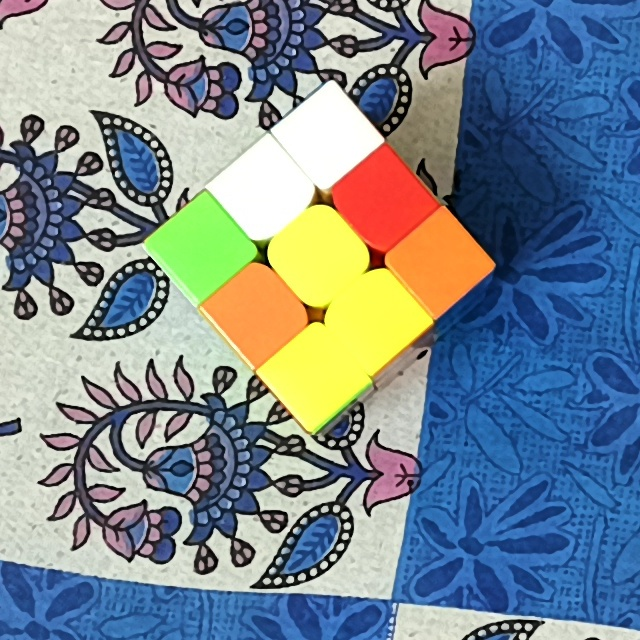tile: (293, 223, 351, 284), (409, 238, 469, 293), (234, 166, 294, 219), (289, 344, 342, 403), (174, 215, 225, 276), (299, 107, 357, 159), (360, 171, 411, 227), (235, 287, 286, 341), (351, 295, 403, 342)
